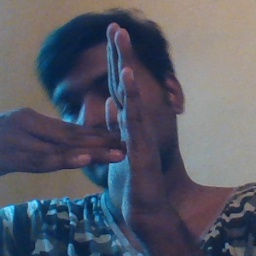Z: (30, 21, 171, 223)
